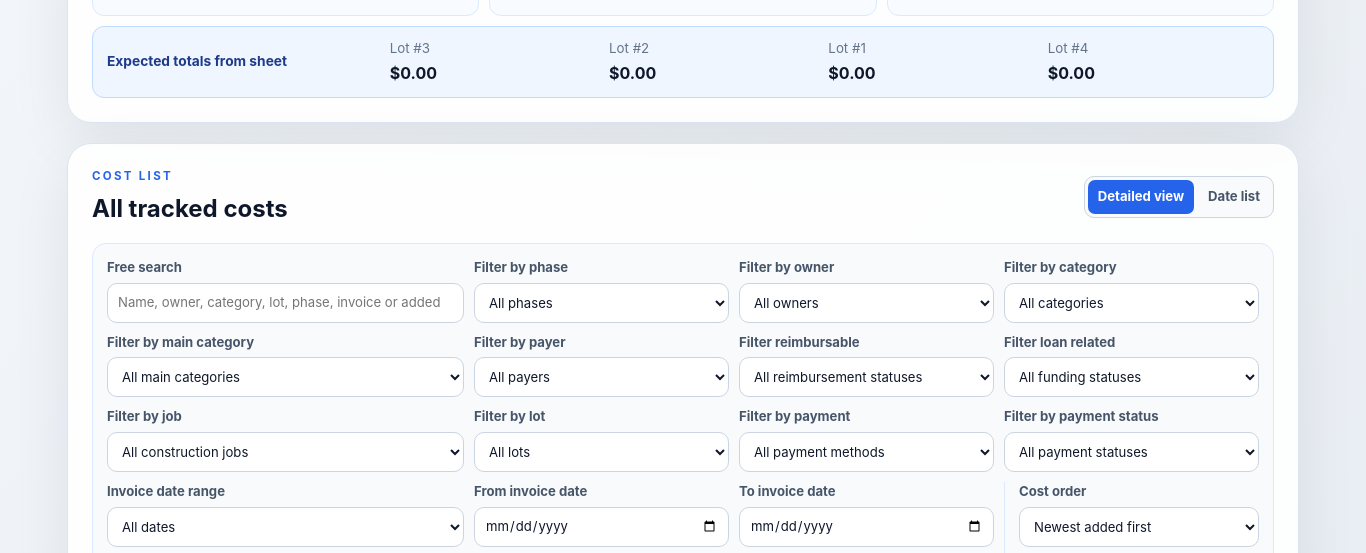
Test: CostPage invoice extraction › filters directly to 2022 invoice dates and keeps the historical fee editable
The width and height of the screenshot is (1366, 553).
(page scrolled)
Click the button "Date list": coordinates (1234, 197) left=1198, top=180, right=1270, bottom=214
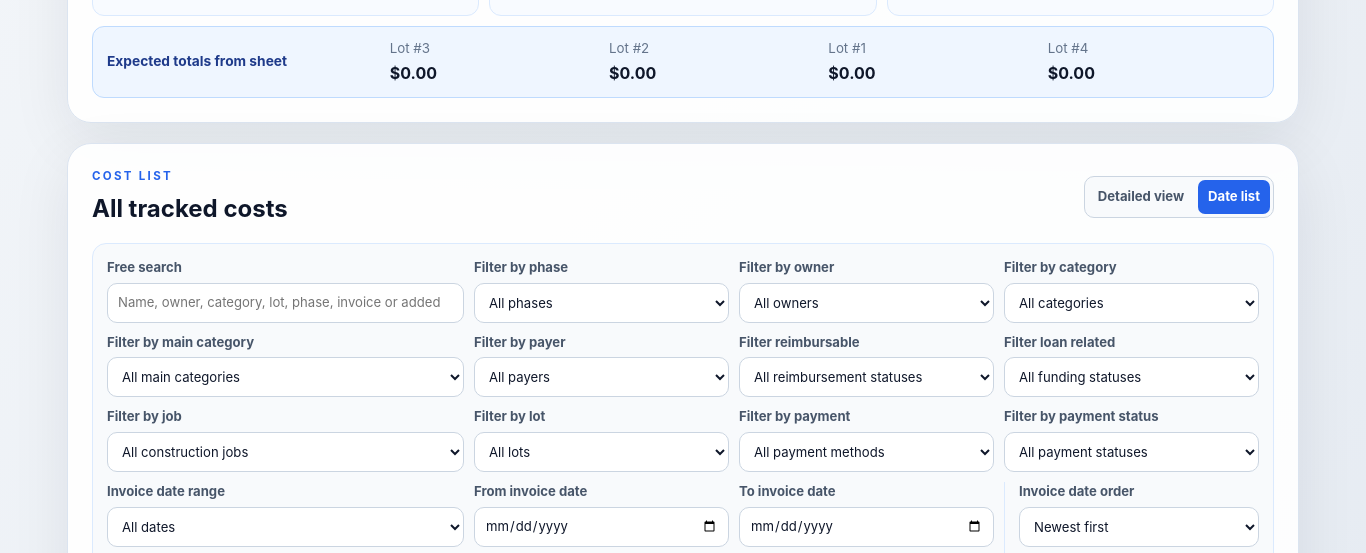
In the date field named "Filter costs from invoice date": coordinates (602, 527) left=474, top=507, right=729, bottom=547, type "2022-01-01"
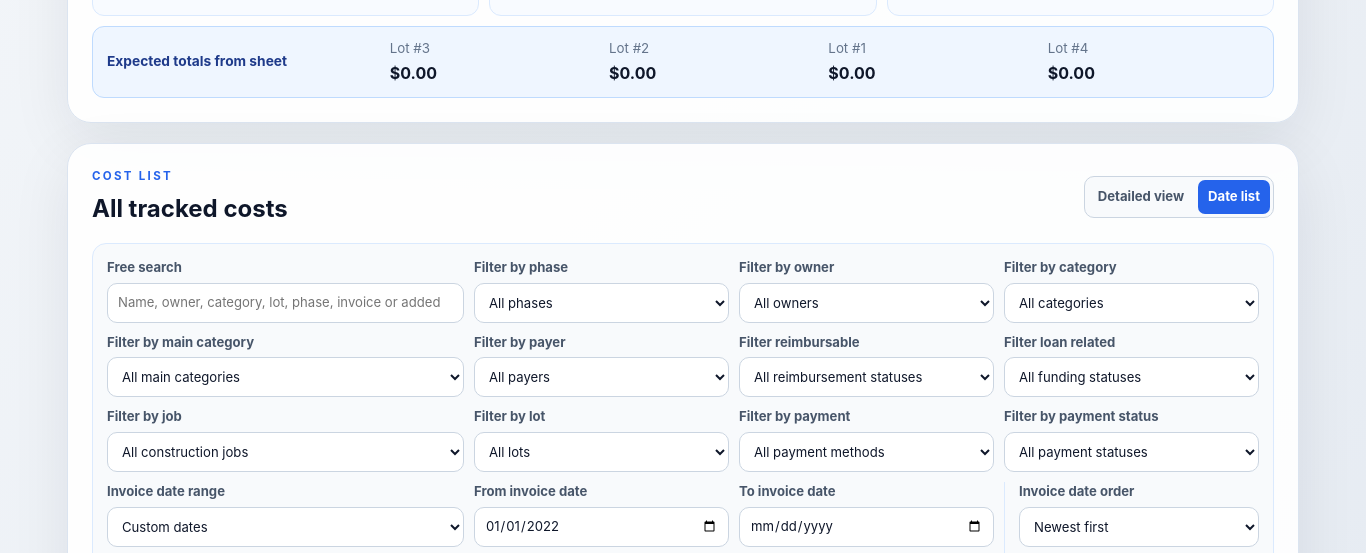
In the date field named "Filter costs through invoice date": coordinates (866, 527) left=739, top=507, right=994, bottom=547, type "2022-12-31"
(page scrolled)
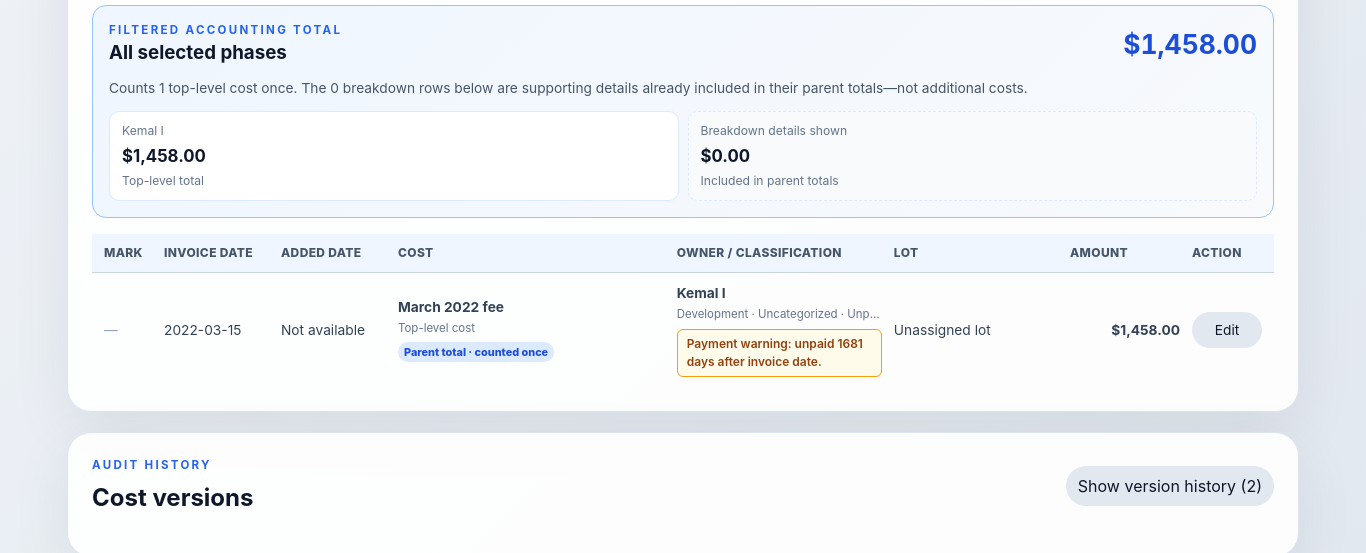
Expected: the text "March 2022 fee" is shown, left=398, top=299, right=504, bottom=315
Click the button "Edit": coordinates (1227, 330) left=1192, top=312, right=1262, bottom=348
(page scrolled)
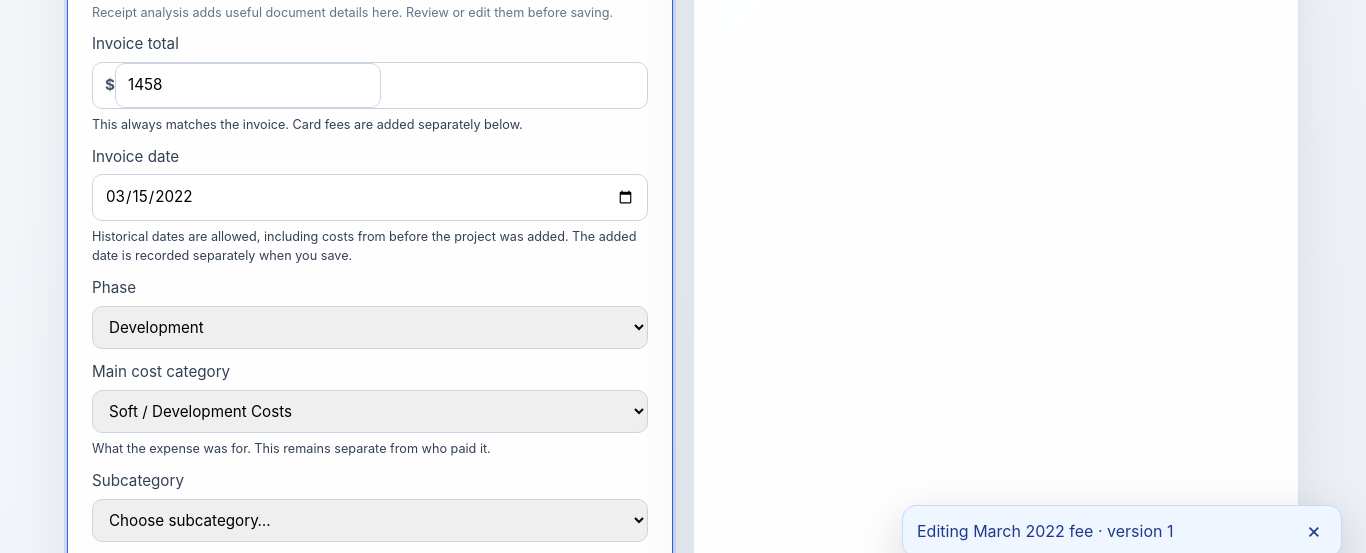
Expected: the date field labelled "Invoice date" holds "2022-03-15", left=92, top=174, right=648, bottom=221
